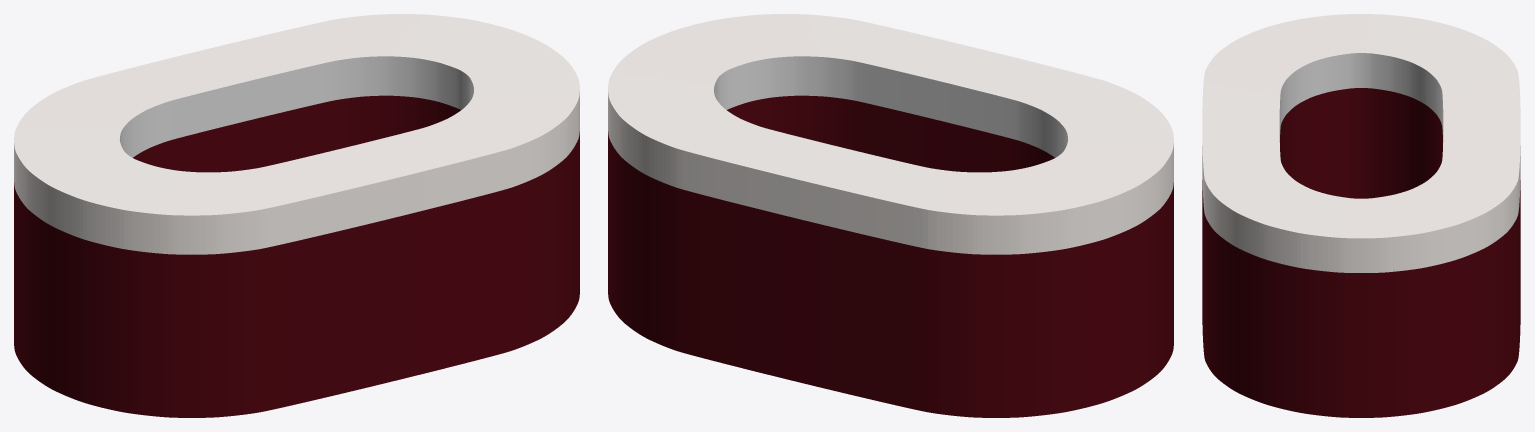
Rendered from trackUpgrade.fbx.
3 views of the same model, side by side, from view 1: azimuth 30°, elevation 25°; view 2: azimuth 150°, elevation 25°; view 3: azimuth 270°, elevation 25° (orthographic). The views are drawn at different scales.
Parts seen in each view (by area): view 1: Cube; view 2: Cube; view 3: Cube.
Boxes of the visible parts, x1,y1,x2,y2 form: Cube: (14, 14, 579, 417); Cube: (608, 14, 1173, 417); Cube: (1202, 14, 1520, 417).
Size of the model in its own units: 483 by 181 by 290.
